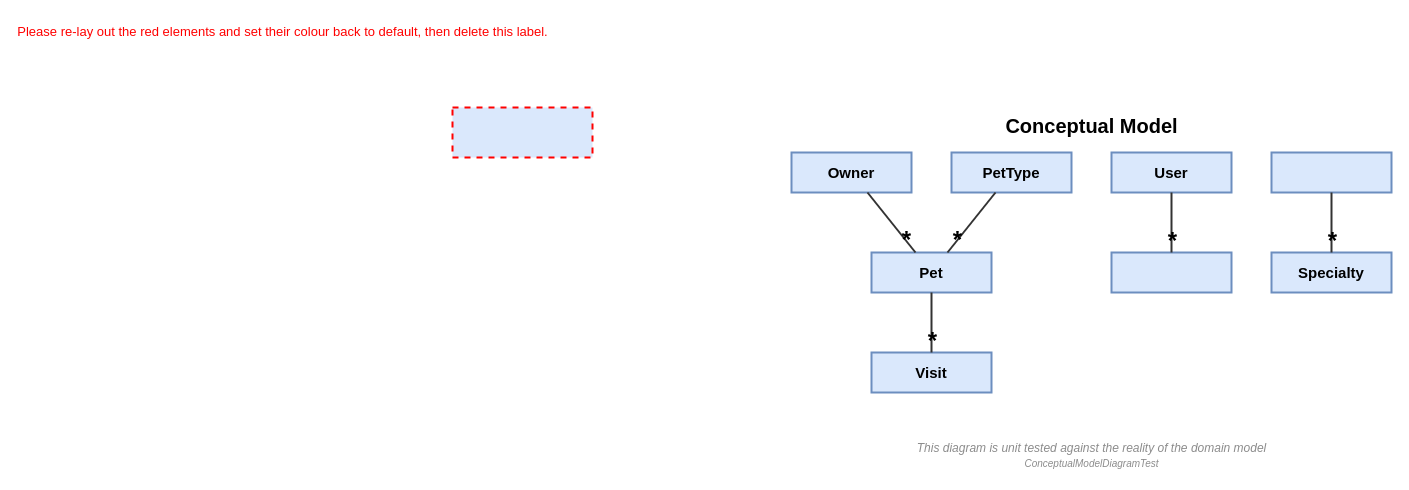
The diagram is 1409 pixels wide and 490 high, and some of its shapes have lost their labels. The centre of each missing label's shape, as x and y in pixels:
"InvalidVisitDateException" belongs at point (522, 132).
"Role" belongs at point (1171, 272).
"Vet" belongs at point (1331, 172).
